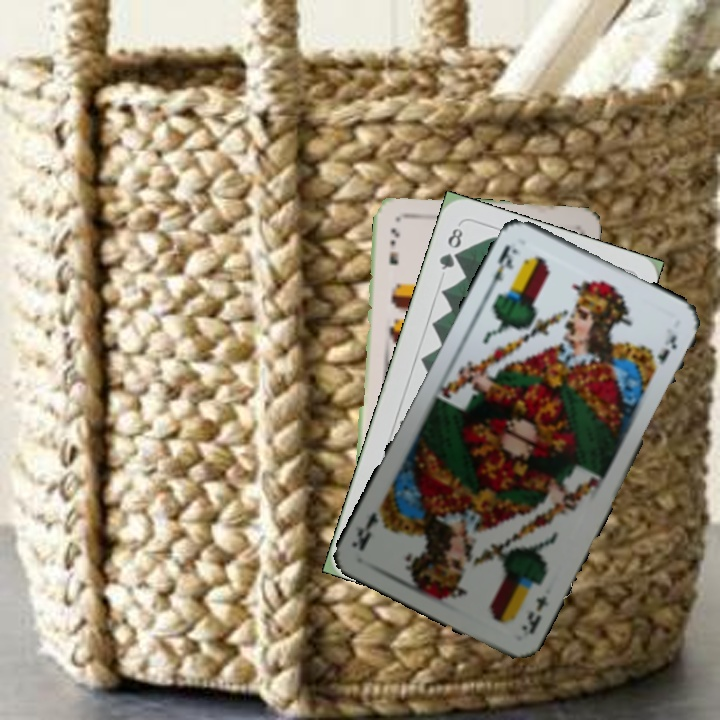E7: (384, 224, 403, 267)
EK: (483, 238, 522, 294), (517, 592, 552, 637)
G8: (435, 223, 466, 273)
